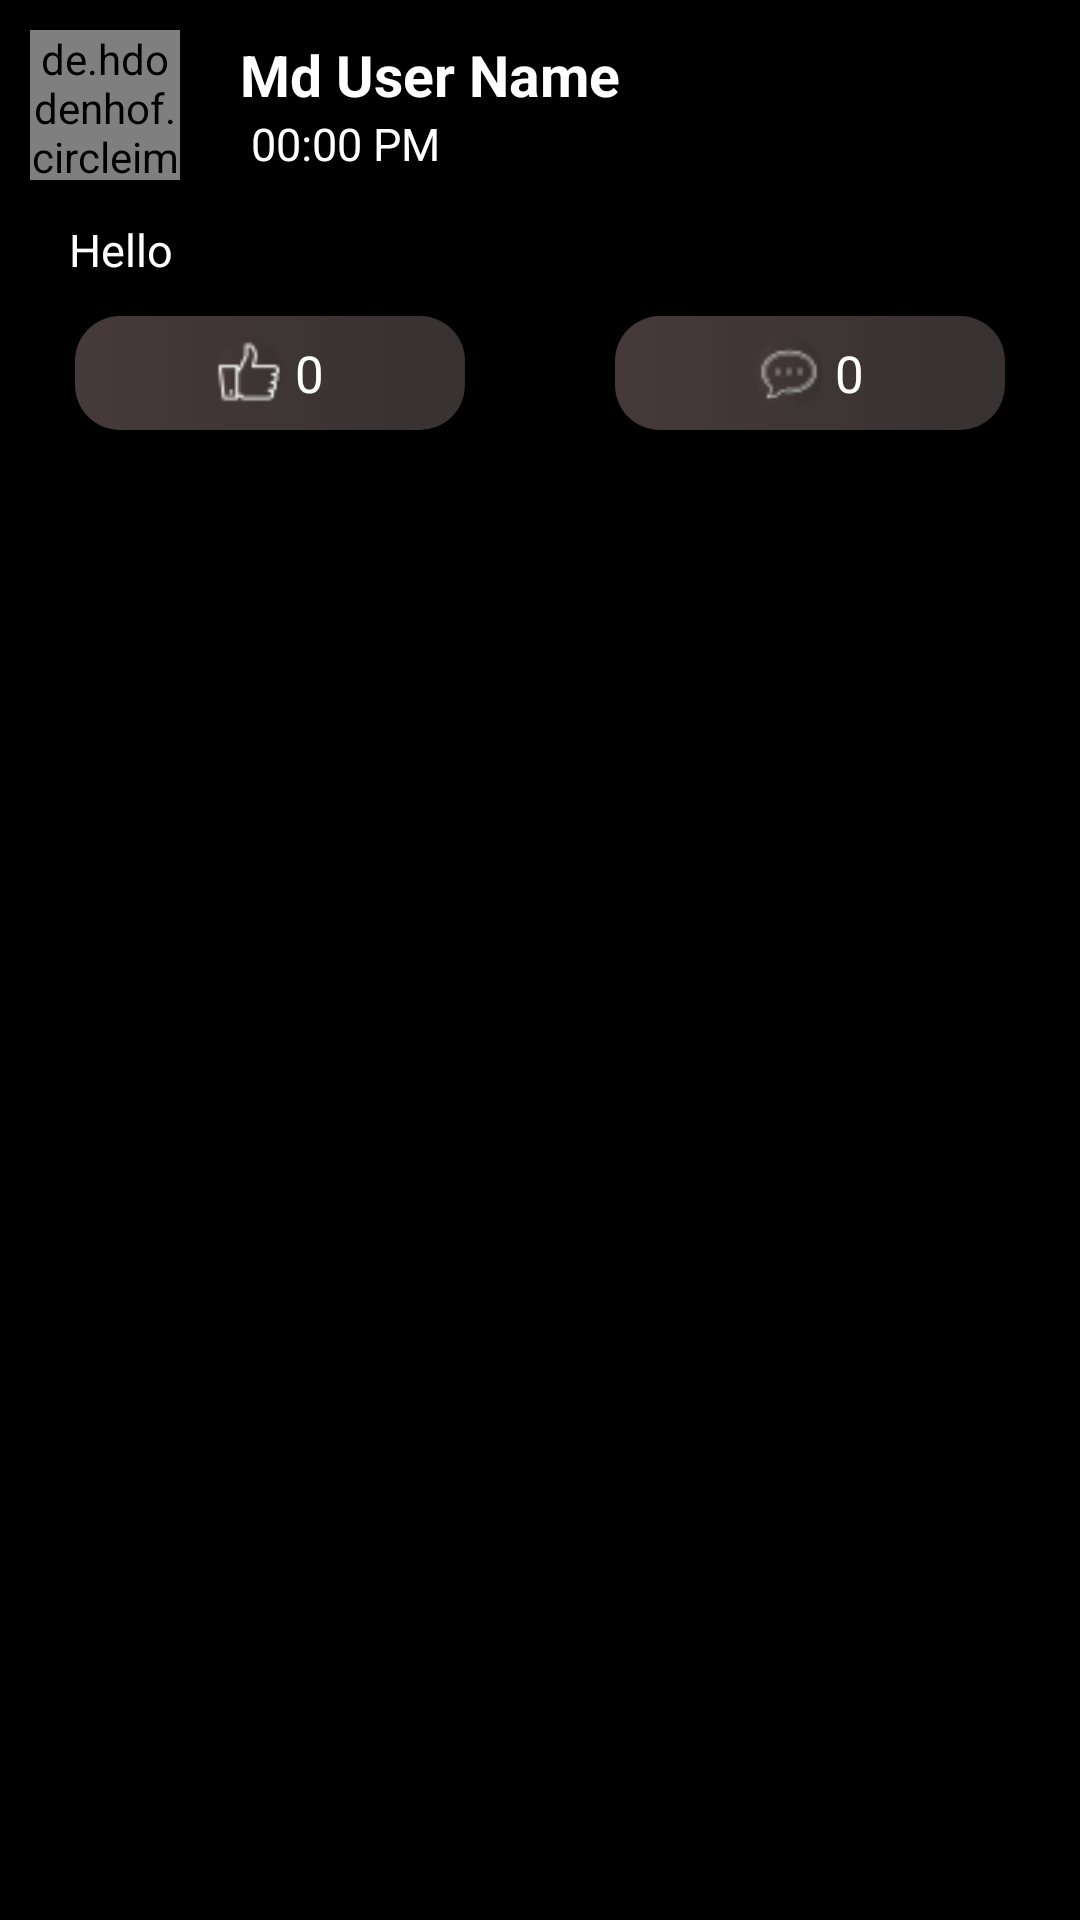

Icon click points for this 1080*1920 phone screenshot, format [x,y]:
comment: [789,374]
like: [249,371]
